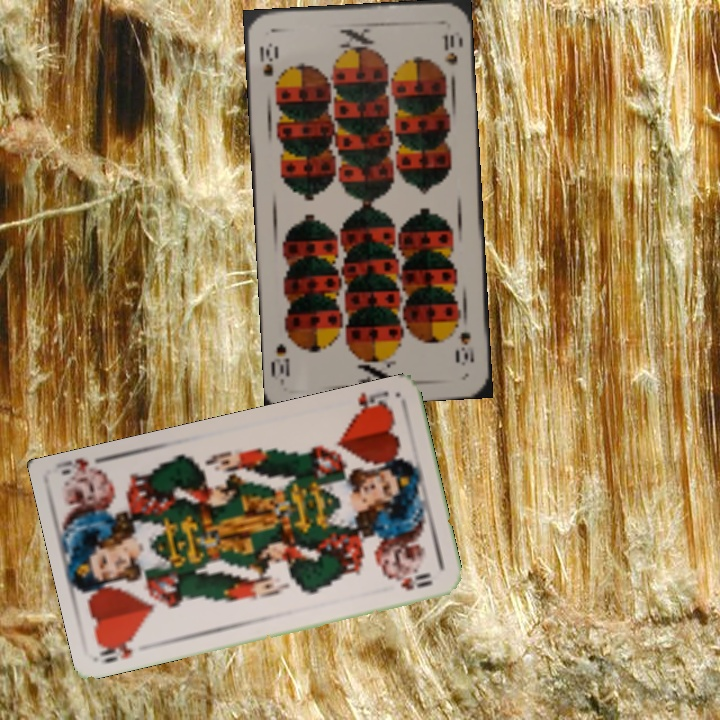HO: (349, 386, 394, 420), (95, 634, 136, 666)
S10: (255, 39, 279, 79), (455, 328, 476, 369)
